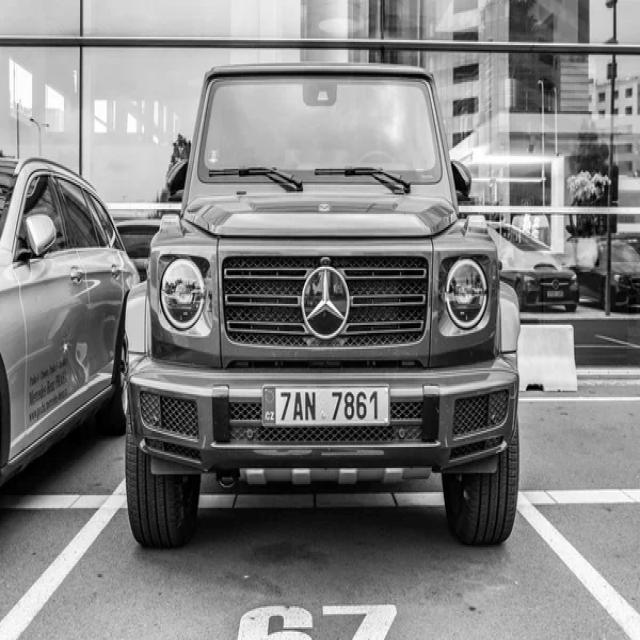Car: (126, 62, 520, 548), (0, 158, 138, 484)
